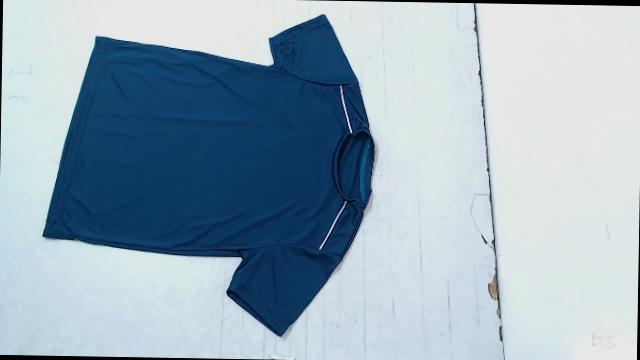new-garment: (43, 14, 374, 335)
